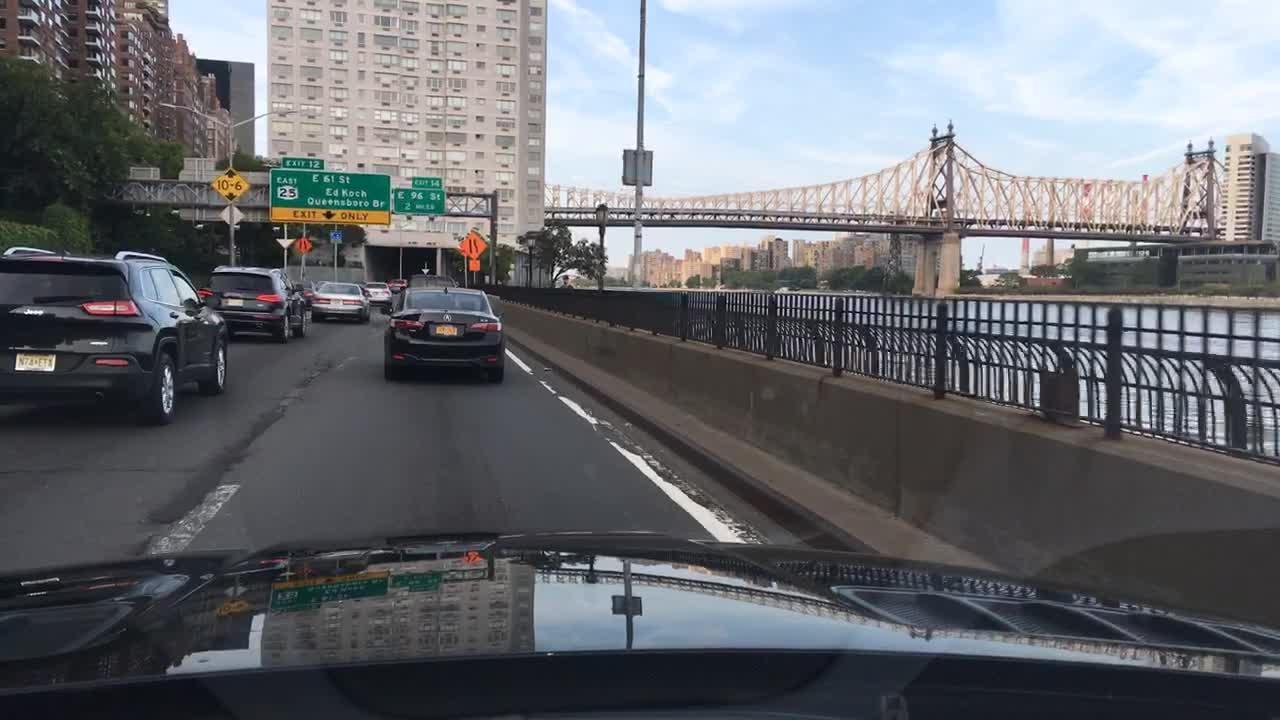jeep: (18, 301, 49, 320)
